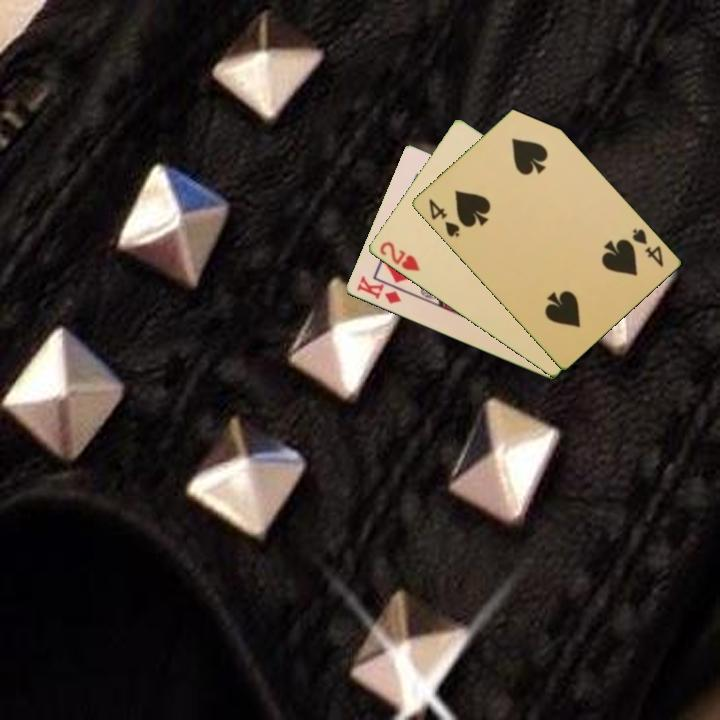2h: (376, 238, 423, 275)
4s: (628, 225, 666, 270), (425, 195, 462, 240)
Kd: (353, 272, 404, 307)
